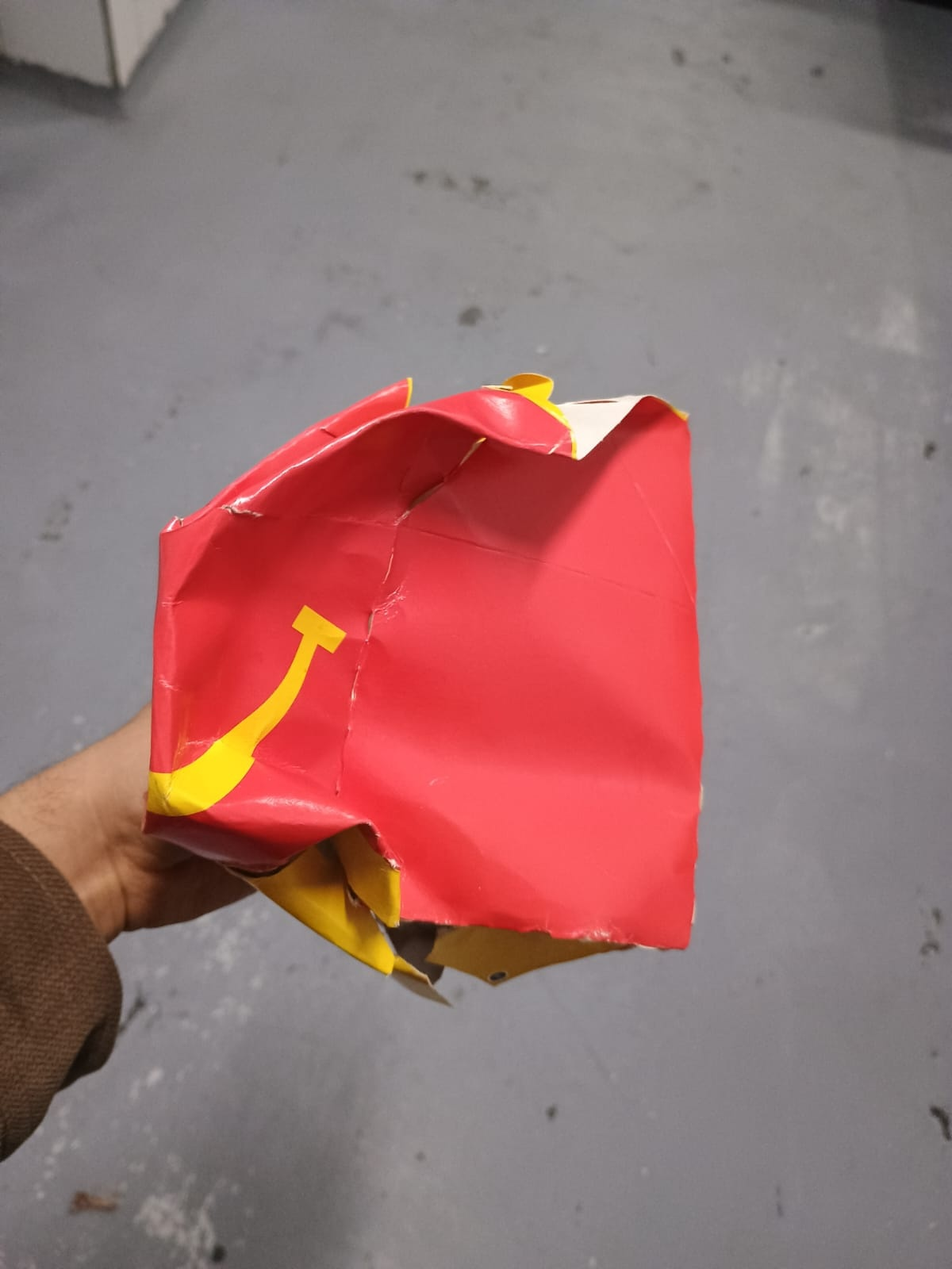Carton: (150, 372, 701, 1005)
